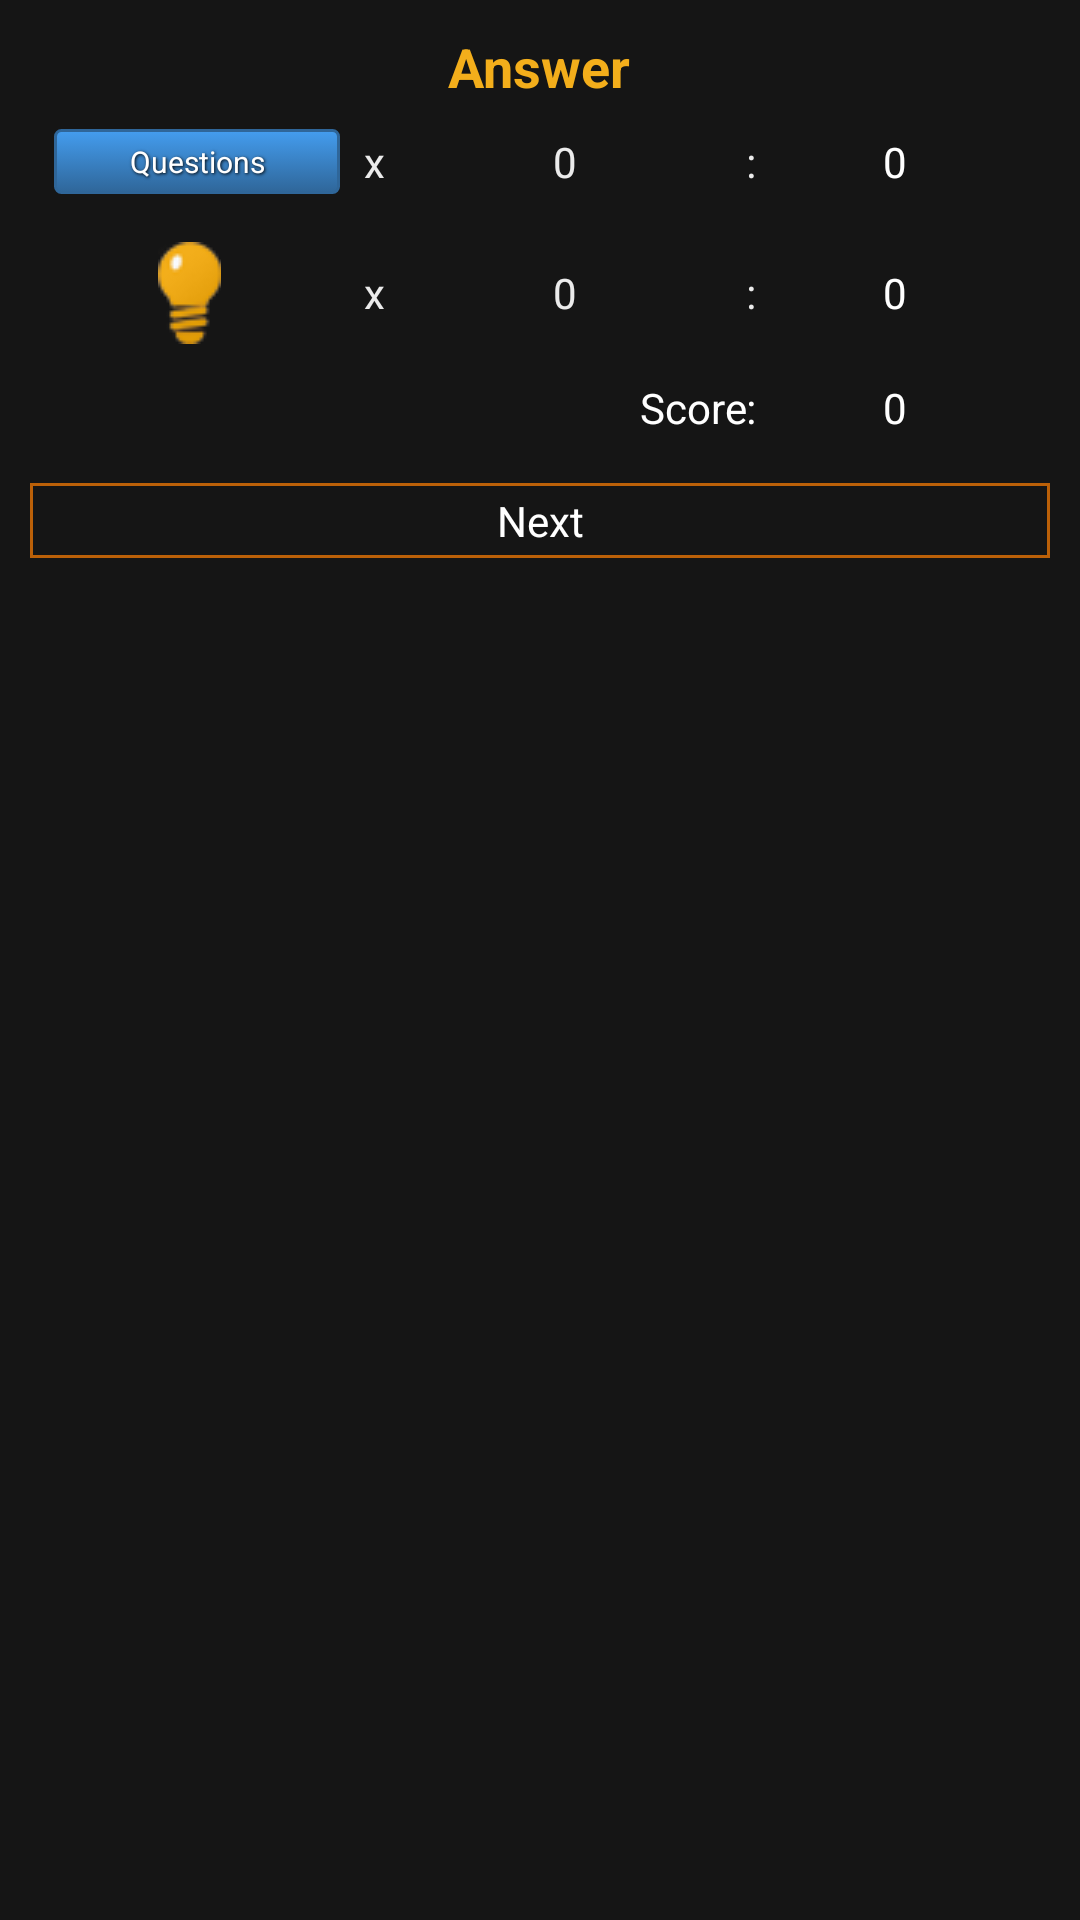

Icon bounding boxes for this 1080px×1920px phone screenshot, format (x1, y1, x2, y2):
hint1: (158, 242, 221, 344)
